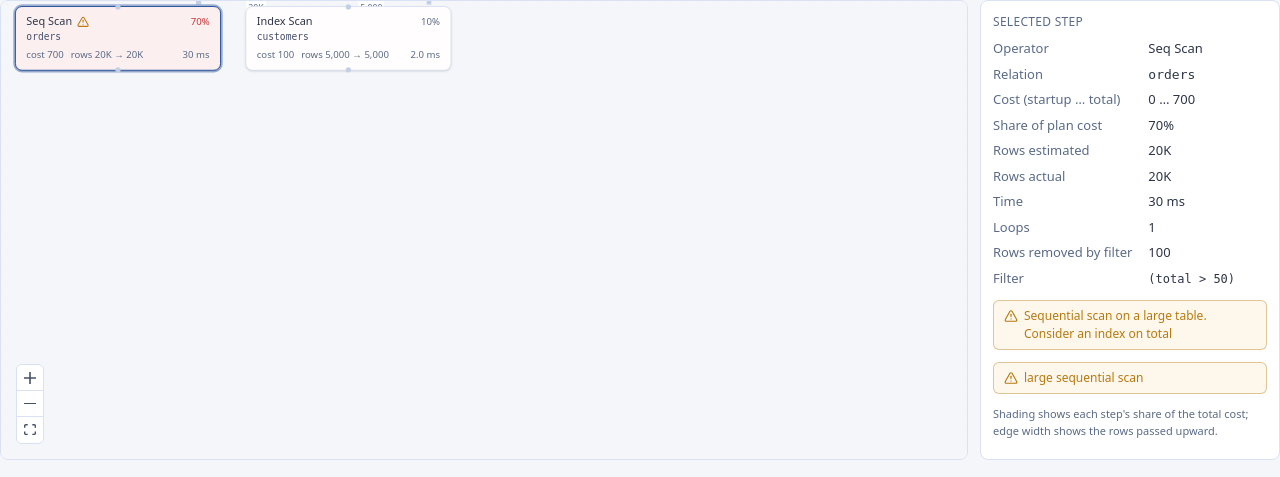
it: plan graph › selects the most expensive step and shows its details
This screenshot has width=1280, height=477.
Expected: the text "Seq Scan" next to "Operator" is shown, [1148, 39, 1203, 57]
Expected: the text "Sequential scan on a large table. Consider an index on total" is shown, [1024, 307, 1207, 342]
What coordinates should you click on to do the following:
click the button with aria-label "Index Scan on customers"
I would click on:
 (348, 38)
Its box is [246, 7, 450, 70].
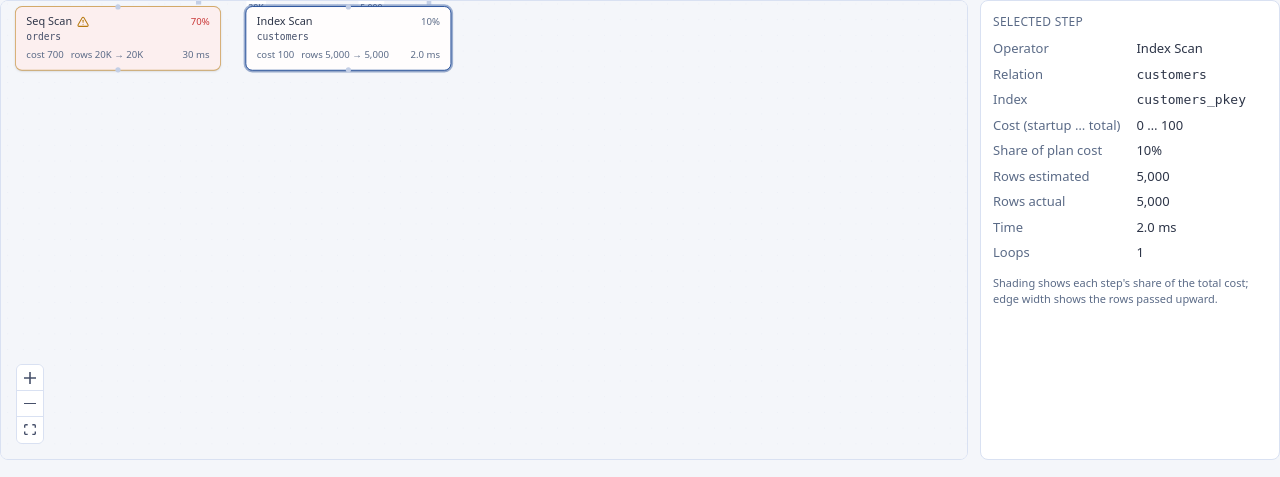
Now the text "customers_pkey" is shown, box [1136, 92, 1246, 107]
